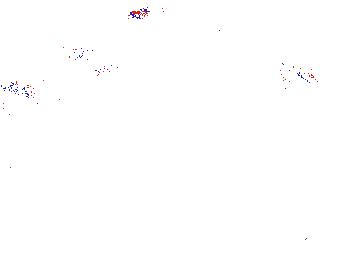red belly glassfish: (194, 25, 223, 42), (128, 6, 163, 20)
redtail glassfish: (67, 43, 124, 72), (276, 58, 318, 94), (145, 80, 198, 107)
siberian prawn: (1, 67, 98, 106)
